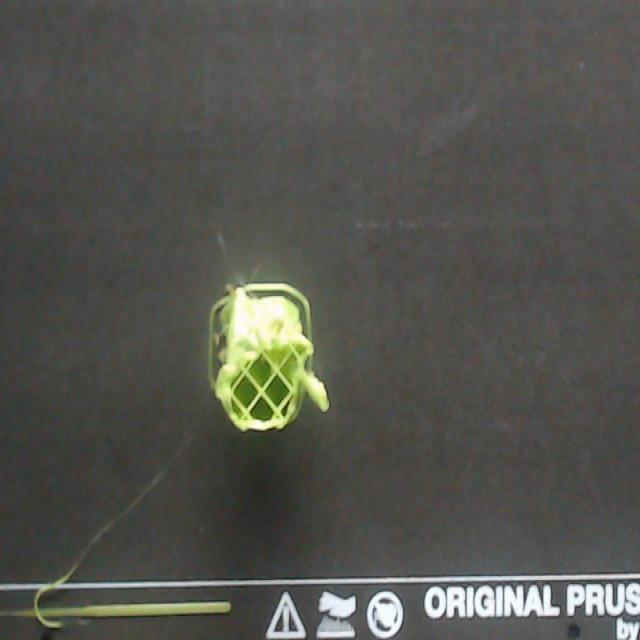mistake: (32, 476, 159, 628), (223, 285, 234, 295)
